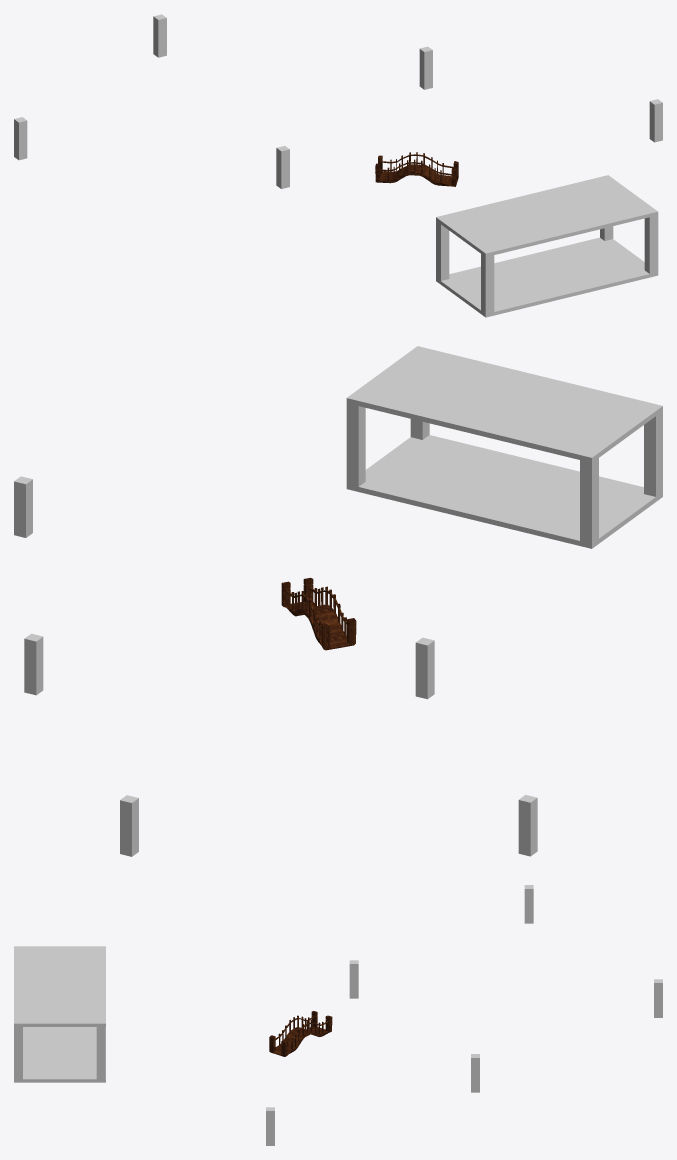
The model's file is safeplace.glb.
The picture shows the model from 3 angles, top to bottom: view 1: azimuth 30°, elevation 25°; view 2: azimuth 150°, elevation 25°; view 3: azimuth 270°, elevation 25°; orthographic projection. The views are drawn at different scales.
Parts seen in each view (by area): view 1: Roof, Floor, Bridge.001, Pillard 1, Pillard 2, Pillard 4, Pedestral_1, Pedestral_2, Pedestral_3, Pedestral_4, Pedestral_5; view 2: Roof, Floor, Bridge.001, Pillard 3, Pillard 4, Pillard 2, Pedestral_4, Pedestral_2, Pedestral_3, Pedestral_1, Pedestral_5; view 3: Roof, Floor, Bridge.001, Pillard 3, Pillard 1.
Boxes of the visible parts, x1,y1,x2,y2 form: Roof: (436,175,658,256); Floor: (436,237,658,317); Bridge.001: (375,152,458,186); Pillard 1: (644,215,658,273); Pillard 2: (481,254,494,313); Pillard 4: (436,221,449,280); Pedestral_1: (153,14,166,57); Pedestral_2: (276,146,289,188); Pedestral_3: (14,117,27,160); Pedestral_4: (419,46,432,89); Pedestral_5: (649,99,662,142); Roof: (346,346,662,462); Floor: (346,435,662,548); Bridge.001: (281,577,356,650); Pillard 3: (346,403,365,486); Pillard 4: (580,458,598,543); Pillard 2: (644,411,662,496); Pedestral_4: (24,633,43,695); Pedestral_2: (415,637,434,699); Pedestral_3: (518,795,537,856); Pedestral_1: (120,795,138,856); Pedestral_5: (14,476,32,537); Roof: (14,946,105,1026); Floor: (14,1027,105,1082); Bridge.001: (269,1011,332,1056); Pillard 3: (96,1027,105,1079); Pillard 1: (14,1027,22,1079).
Bounding box in the file's own units: 119 × 14.4 × 144.
1 material, 1 textured.
